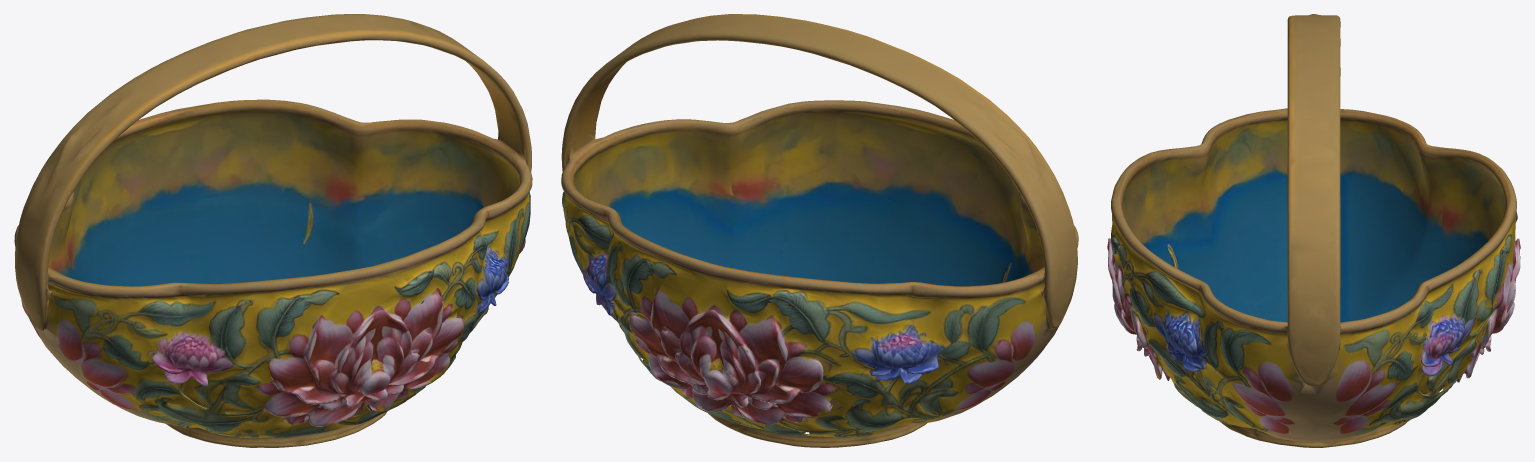
Rendered from 乾隆年制款画珐琅牡丹纹海棠式花篮.glb.
The picture shows the model from 3 angles, left to right: view 1: azimuth 30°, elevation 25°; view 2: azimuth 150°, elevation 25°; view 3: azimuth 270°, elevation 25°; orthographic projection. The views are drawn at different scales.
Parts seen in each view (by area): view 1: tripo_node_03aa329b; view 2: tripo_node_03aa329b; view 3: tripo_node_03aa329b.
Boxes of the visible parts, x1=… form: tripo_node_03aa329b: x1=14, y1=14, x2=532, y2=447; tripo_node_03aa329b: x1=561, y1=14, x2=1078, y2=447; tripo_node_03aa329b: x1=1107, y1=14, x2=1520, y2=447.
Size of the model in its own units: 97.99 by 69.01 by 75.
1 material, 1 textured.
